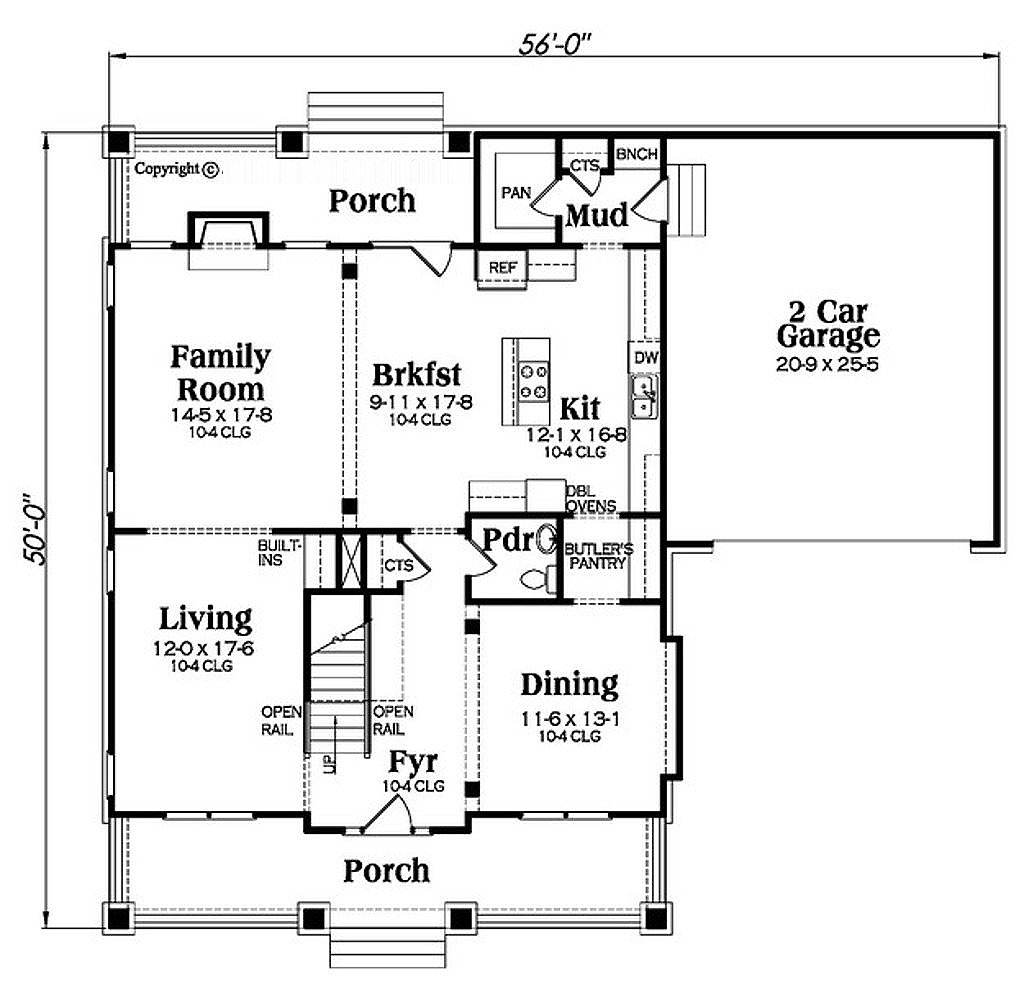door: (357, 786, 424, 841), (385, 533, 433, 593), (457, 530, 502, 589), (405, 236, 456, 283), (628, 164, 665, 226), (522, 173, 557, 221), (564, 164, 604, 203)
kitchen_bar: (493, 320, 561, 426)
large_sink: (511, 563, 557, 601)
small_sink: (531, 524, 562, 569)
stairs: (291, 587, 382, 775)
twin_sink: (614, 374, 670, 423)
window: (514, 801, 608, 823), (94, 544, 128, 598), (159, 806, 262, 821), (119, 229, 170, 255), (99, 466, 124, 516), (279, 233, 327, 250)
